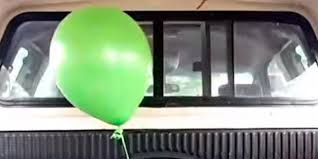Balloon: (49, 7, 152, 125)
